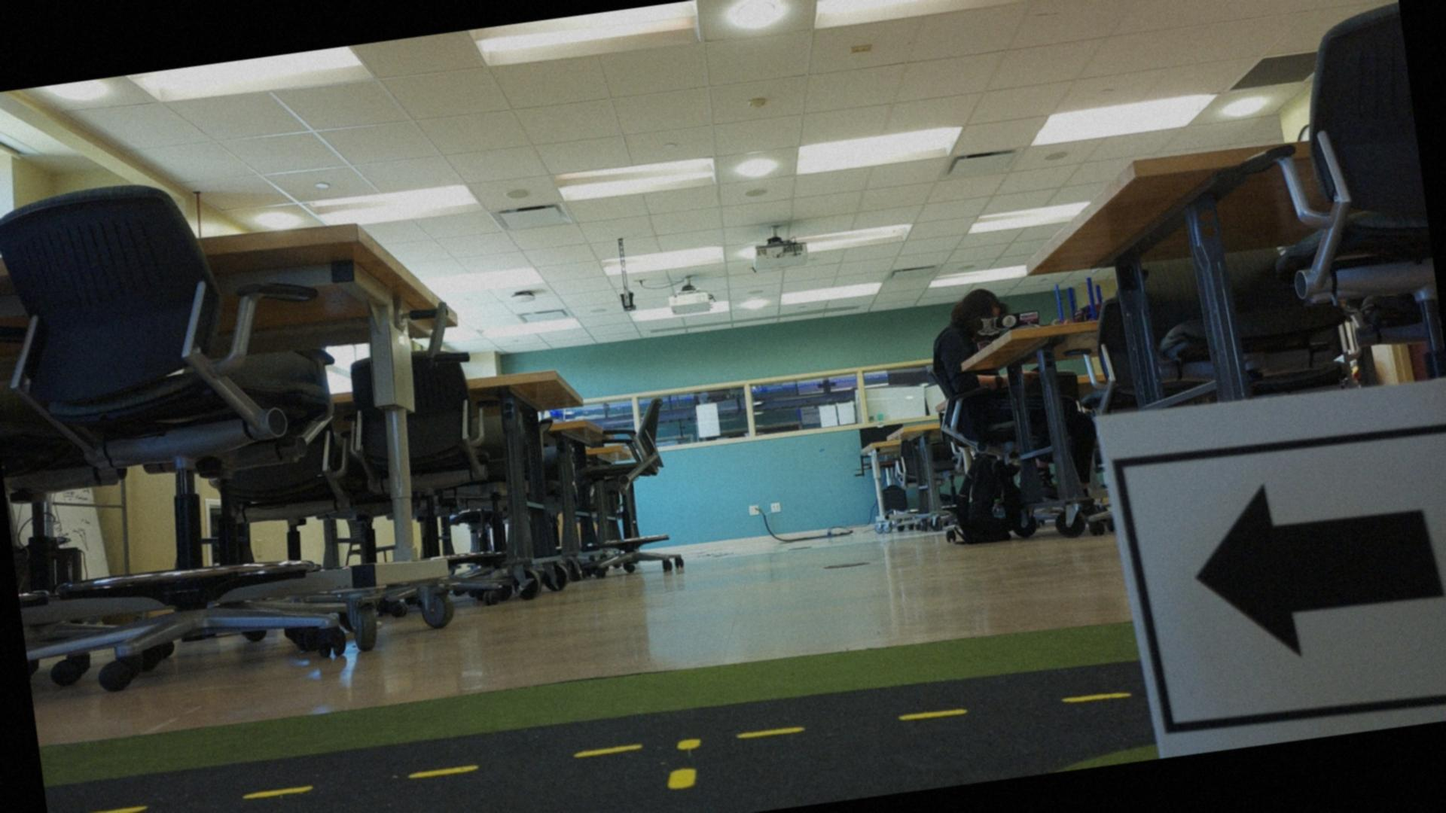turnright: (1125, 429, 1445, 735)
yellowline: (62, 663, 1130, 812), (658, 736, 707, 796)
